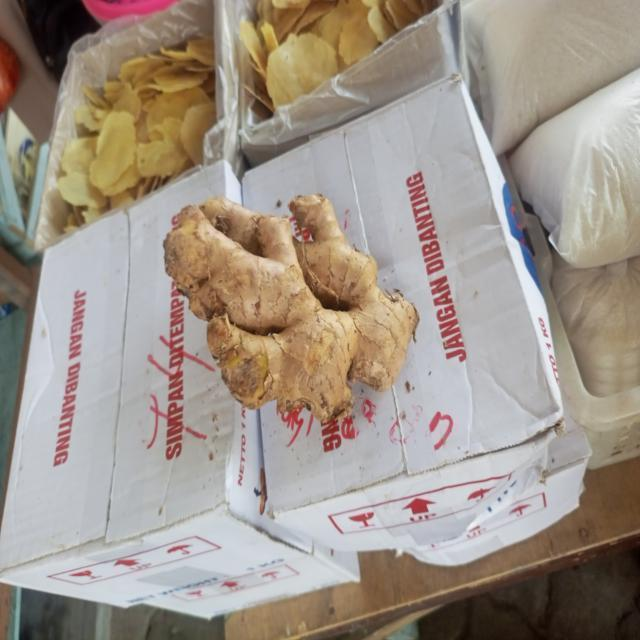ginger: (168, 200, 424, 418)
